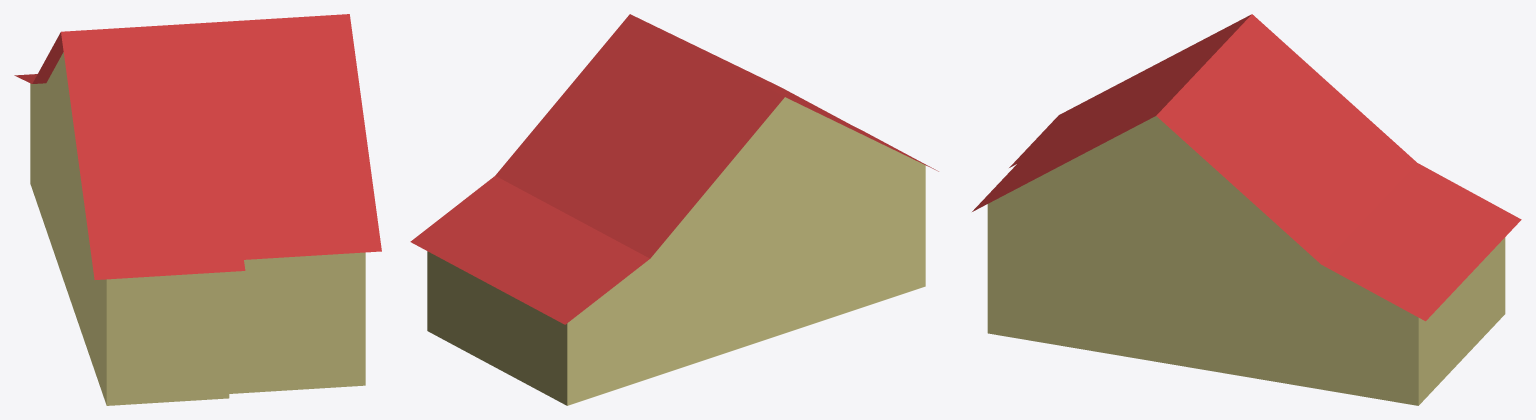
3 renders of one model, left to right at view 1: azimuth 30°, elevation 25°; view 2: azimuth 150°, elevation 25°; view 3: azimuth 270°, elevation 25°, orthographic. The views are drawn at different scales.
Bounding box in the file's own units: 25.03 × 32.38 × 16.34.
